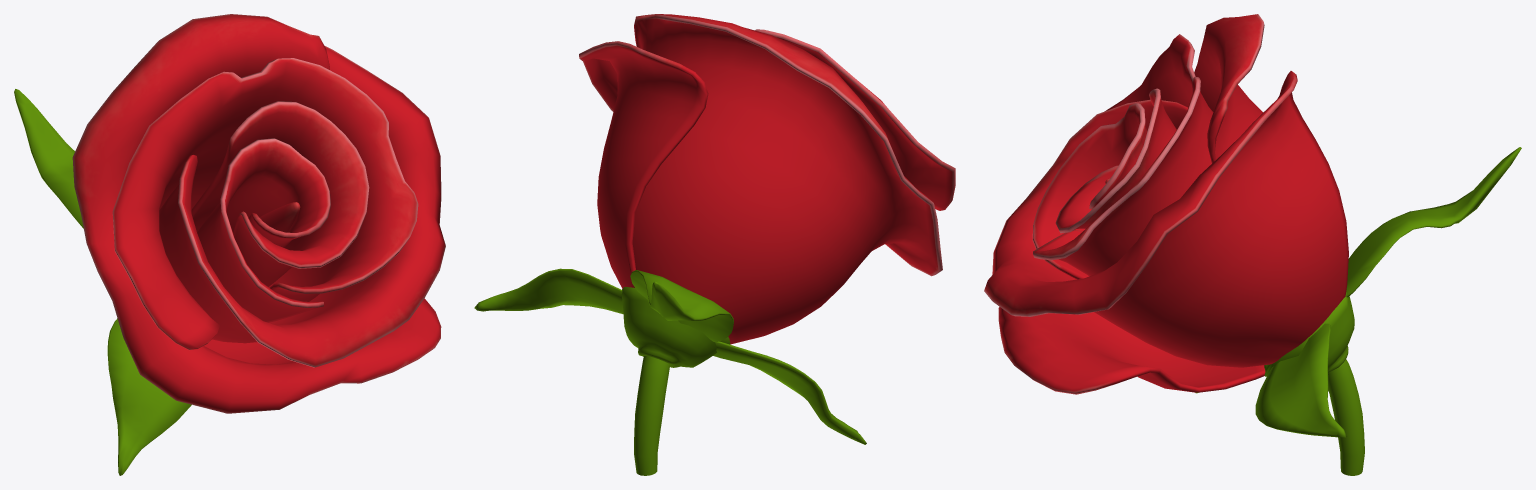
3 views of the same model, side by side, from view 1: azimuth 30°, elevation 25°; view 2: azimuth 150°, elevation 25°; view 3: azimuth 270°, elevation 25° (orthographic). The views are drawn at different scales.
Visible parts, largest first — view 1: Rose; view 2: Rose; view 3: Rose.
Part boxes in pixels (box(x1,y1,x2,y2)): Rose: box(14, 14, 445, 475); Rose: box(474, 14, 955, 475); Rose: box(984, 14, 1521, 475).
Bounding box in the file's own units: 1.45 × 1.61 × 1.81.
2 materials, 1 textured.
